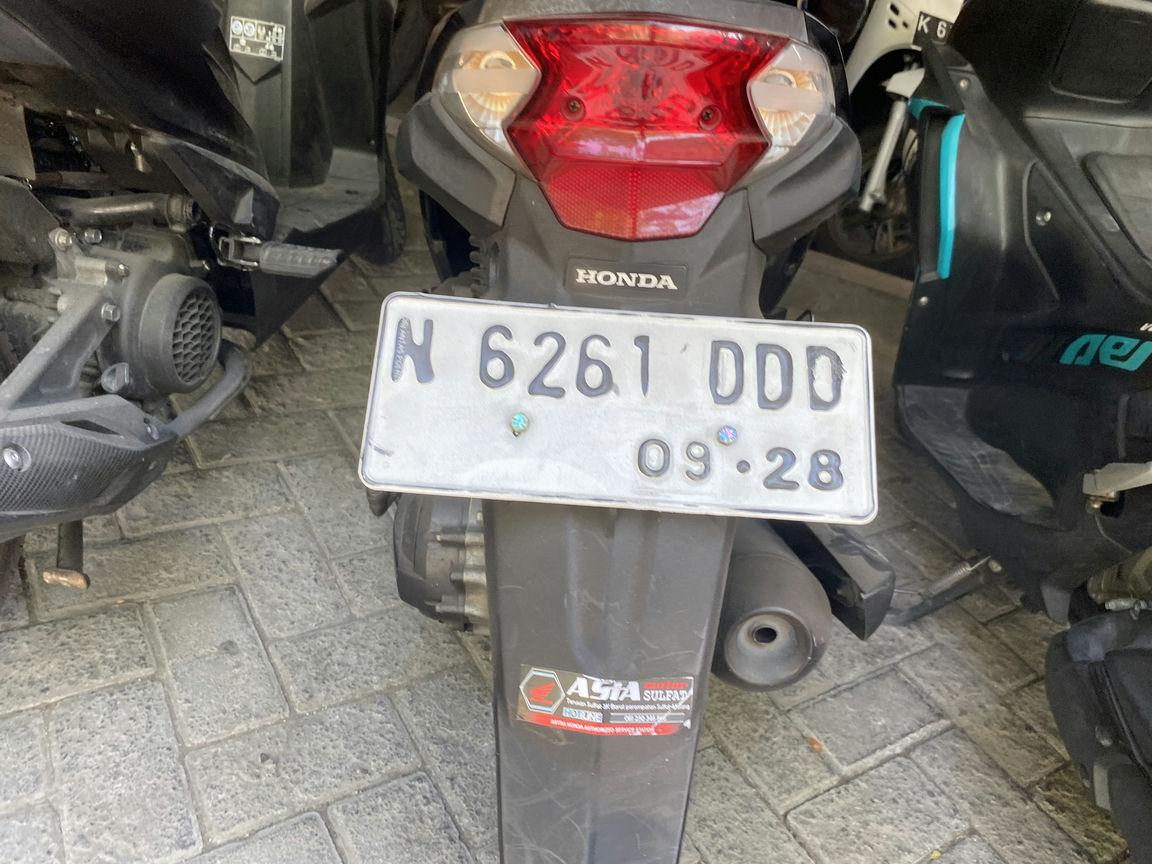plat: (360, 292, 878, 524)
